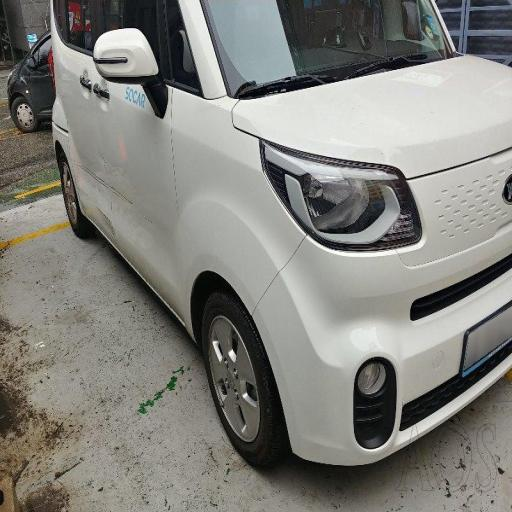normal: (44, 3, 510, 491)
